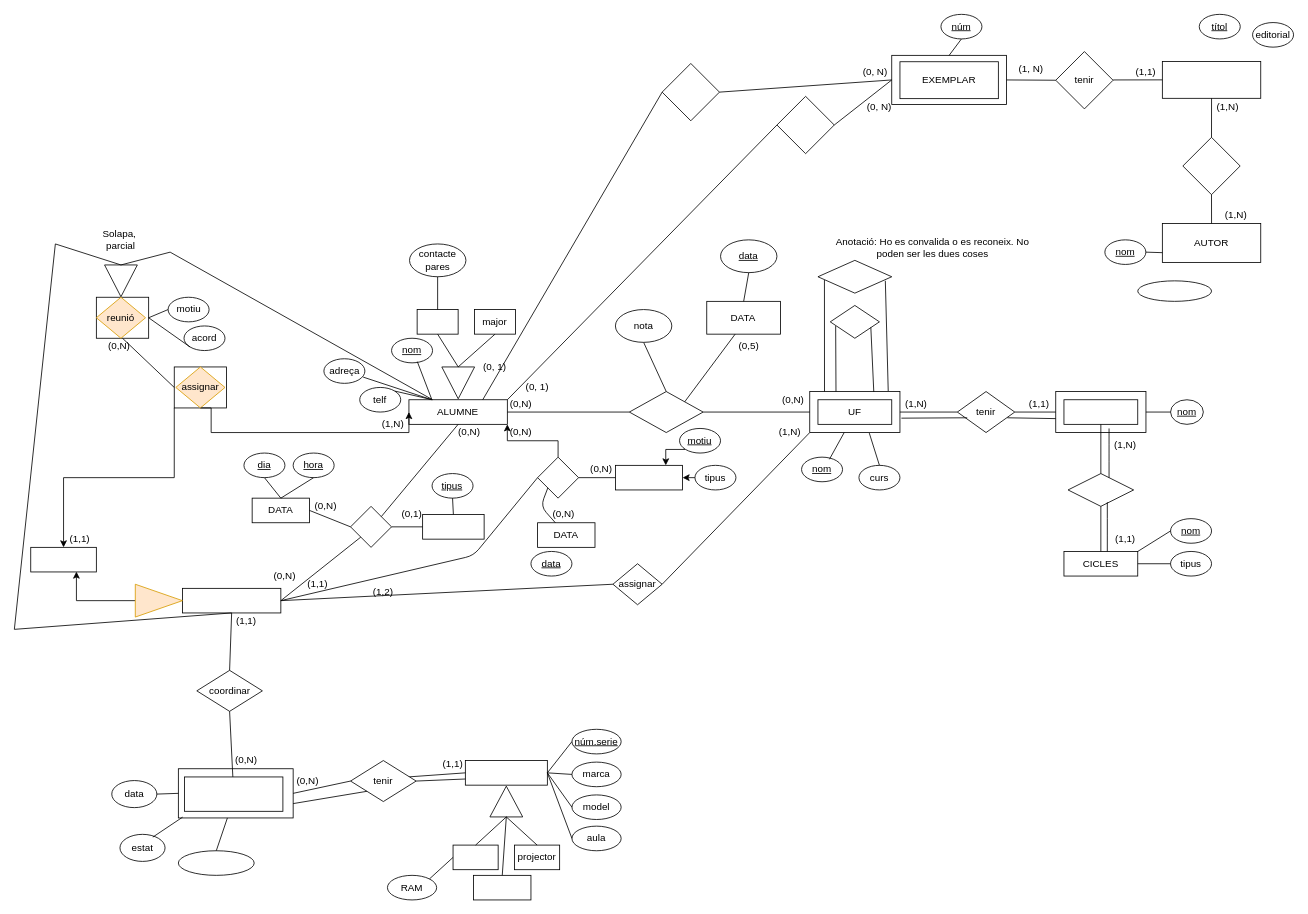
Some shapes in this 1308 by 914 pixel diagram are drawn without their labels. Each missing label, with the centre of its shape:
ABSÈNCIA: the point at 453,526
convalidar: the point at 854,276
data_resolució: the point at 216,862
EQUIP INFORMATIC: the point at 506,772
escrita: the point at 1211,166
estructurar: the point at 1100,489
impressora: the point at 502,887
INCIDENCIA: the point at 233,793
INCIDÈNCIES: the point at 649,477
matricularse: the point at 666,412
menor: the point at 437,321
MÓDULS: the point at 1100,411
nacionalitat: the point at 1174,290
OBRA: the point at 1211,79
ordinador: the point at 475,857
posar: the point at 558,477
prestec: the point at 690,92
PROFESSOR: the point at 231,600
rebre: the point at 371,526
reconeix: the point at 854,321
reserva: the point at 805,125
tutor: the point at 63,559
